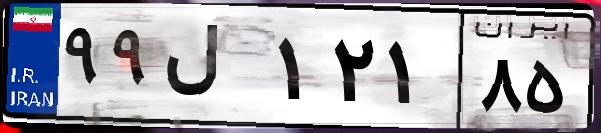1: (270, 28, 330, 110), (385, 28, 445, 110)
2: (330, 28, 385, 110)
5: (525, 38, 570, 115)
8: (475, 38, 525, 113)
9: (57, 26, 110, 100), (110, 28, 158, 98)
ل: (158, 20, 270, 120)
